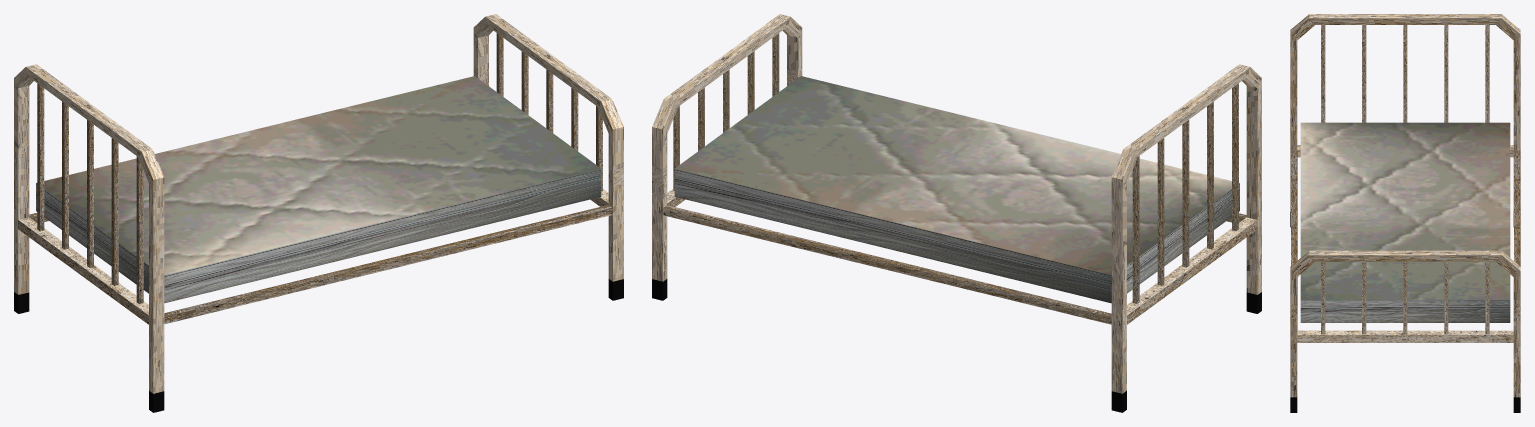
Rendered from bed.glb.
The picture shows the model from 3 angles, left to right: view 1: azimuth 30°, elevation 25°; view 2: azimuth 150°, elevation 25°; view 3: azimuth 270°, elevation 25°; orthographic projection. The views are drawn at different scales.
Visible parts, largest first — view 1: mattress, frame, frame.001, bar, bar.001, bar.002; view 2: mattress, frame, frame.001, bar, bar.003, bar.002; view 3: mattress, frame.001, frame, bar, bar.002, bar.001, bar.003.
Boxes of the visible parts, x1=… form: mattress: x1=36, y1=76, x2=601, y2=303; frame: x1=14, y1=64, x2=164, y2=412; frame.001: x1=473, y1=14, x2=623, y2=300; bar: x1=37, y1=83, x2=143, y2=303; bar.001: x1=164, y1=205, x2=612, y2=324; bar.002: x1=496, y1=33, x2=602, y2=191; mattress: x1=674, y1=76, x2=1239, y2=303; frame: x1=1111, y1=64, x2=1261, y2=412; frame.001: x1=652, y1=14, x2=802, y2=300; bar: x1=1132, y1=83, x2=1238, y2=303; bar.003: x1=663, y1=205, x2=1111, y2=324; bar.002: x1=673, y1=33, x2=779, y2=190; mattress: x1=1300, y1=122, x2=1510, y2=322; frame.001: x1=1290, y1=250, x2=1520, y2=412; frame: x1=1290, y1=14, x2=1520, y2=227; bar: x1=1321, y1=25, x2=1489, y2=122; bar.002: x1=1321, y1=261, x2=1489, y2=334; bar.001: x1=1291, y1=150, x2=1297, y2=330; bar.003: x1=1514, y1=150, x2=1520, y2=266.
Bounding box in the file's own units: 2.14 × 1.1 × 1.1.
3 materials, 3 textured.
